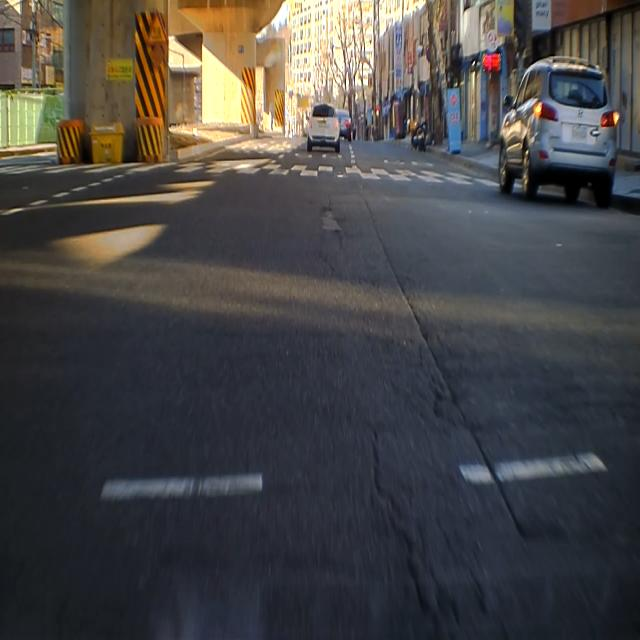Pothole: (316, 201, 346, 243)
